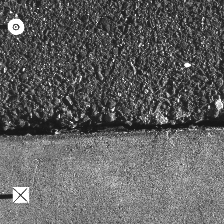circle: (7, 18, 24, 35)
crack: (1, 118, 223, 137)
square: (12, 187, 29, 203)
